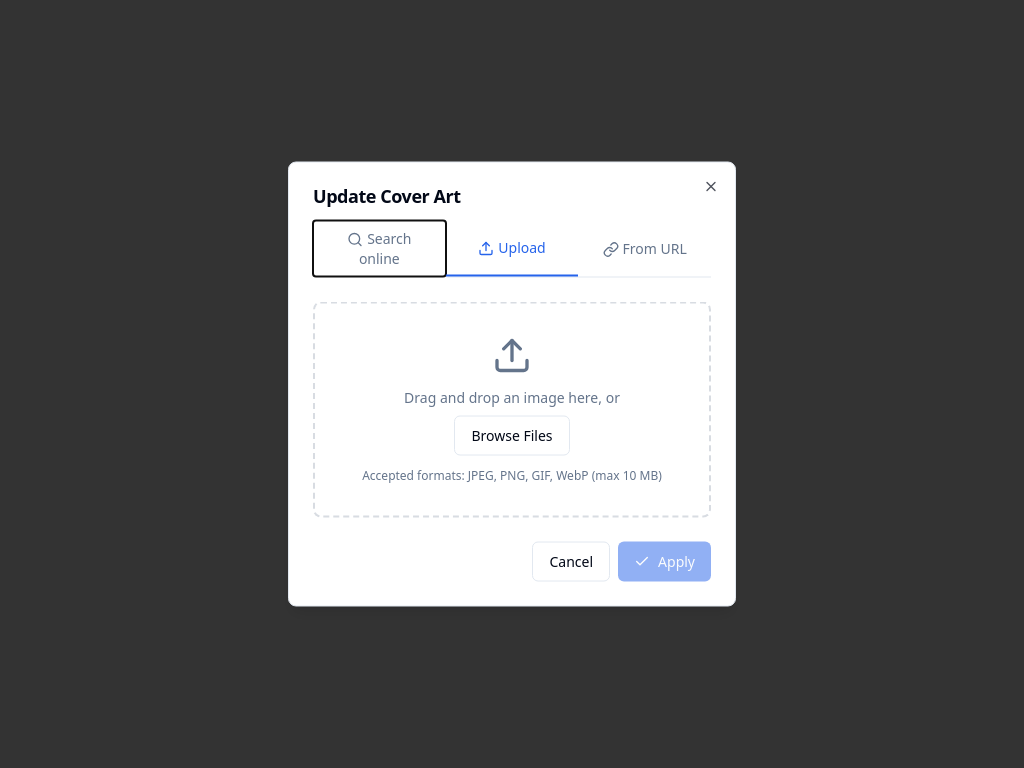
CoverArtUpload › URL download mode › should show error for invalid URL format
The width and height of the screenshot is (1024, 768).
Click the button "From URL": {"x": 645, "y": 248} x1=578 y1=220 x2=711 y2=276
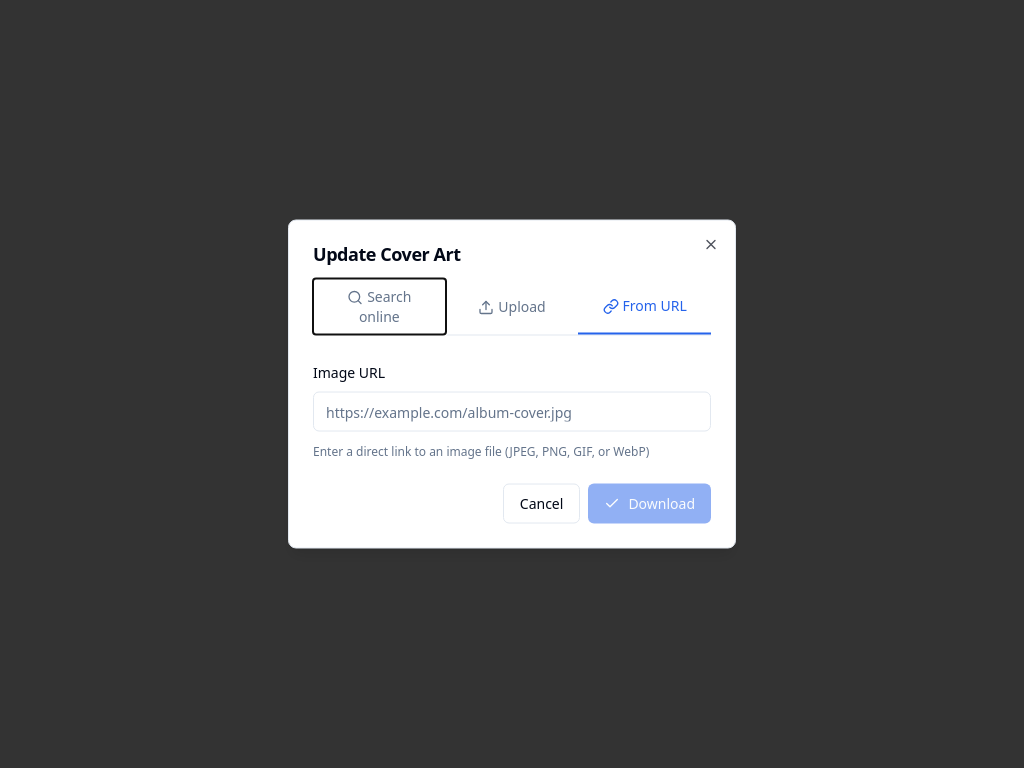
In the field labelled "Image URL": {"x": 512, "y": 412} x1=313 y1=392 x2=711 y2=432, type "not-a-valid-url"
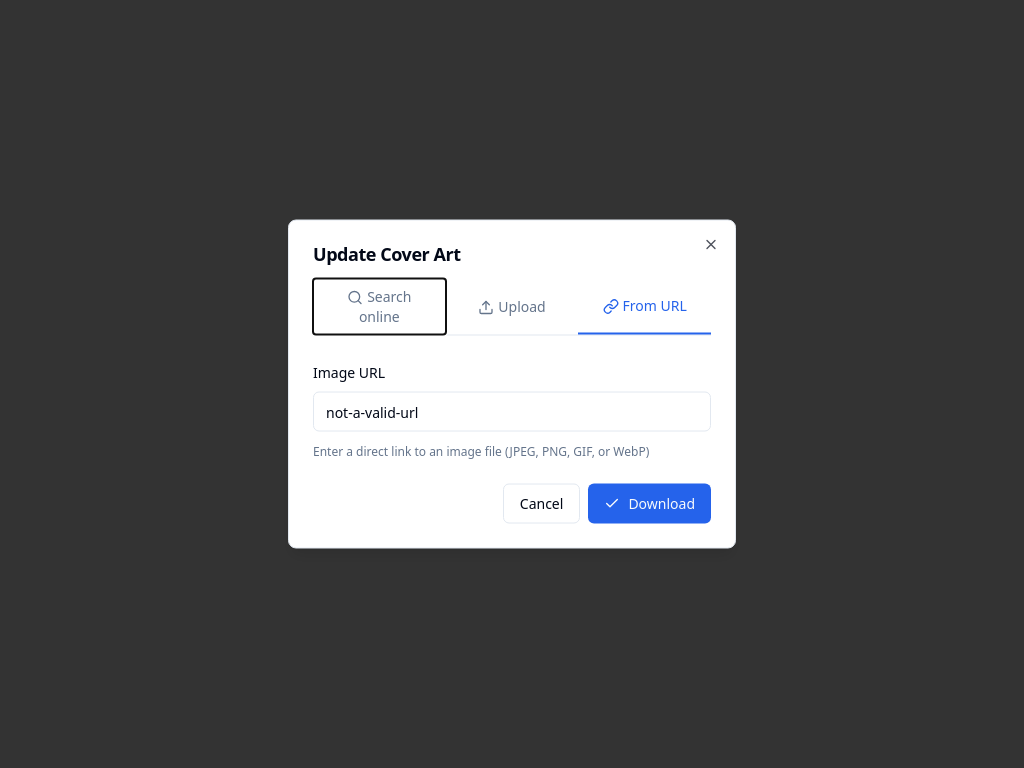
Click the button "Download": {"x": 650, "y": 504} x1=588 y1=484 x2=711 y2=524
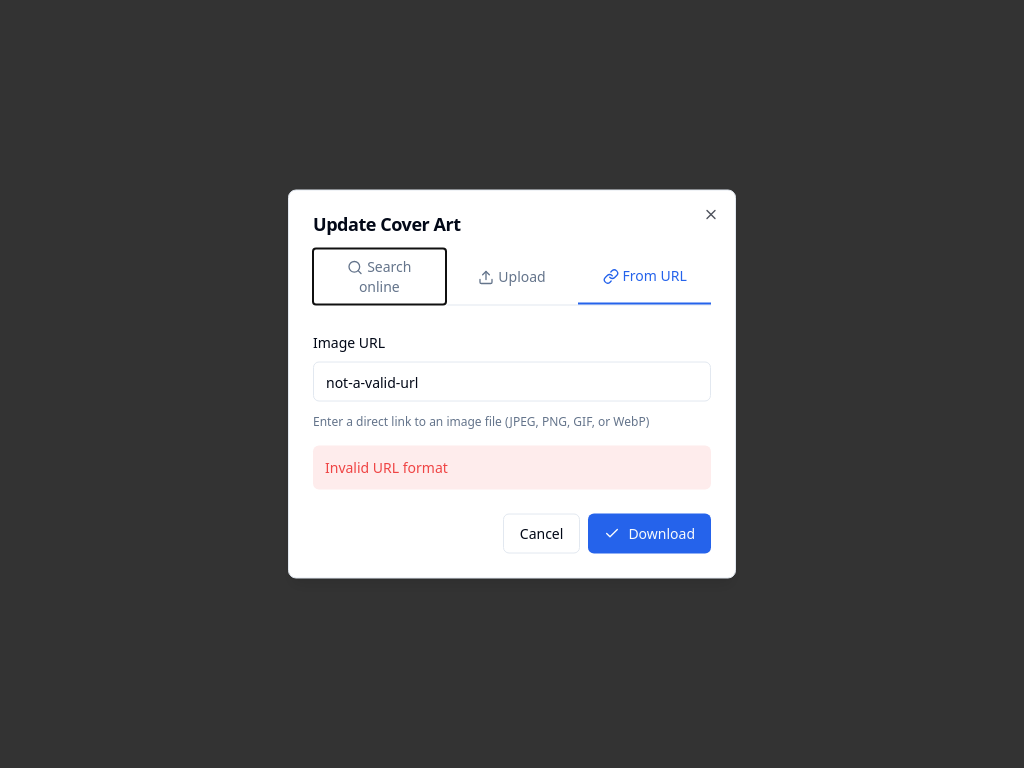
expect the text "Invalid URL format" is shown: met, box x1=313 y1=446 x2=711 y2=490
